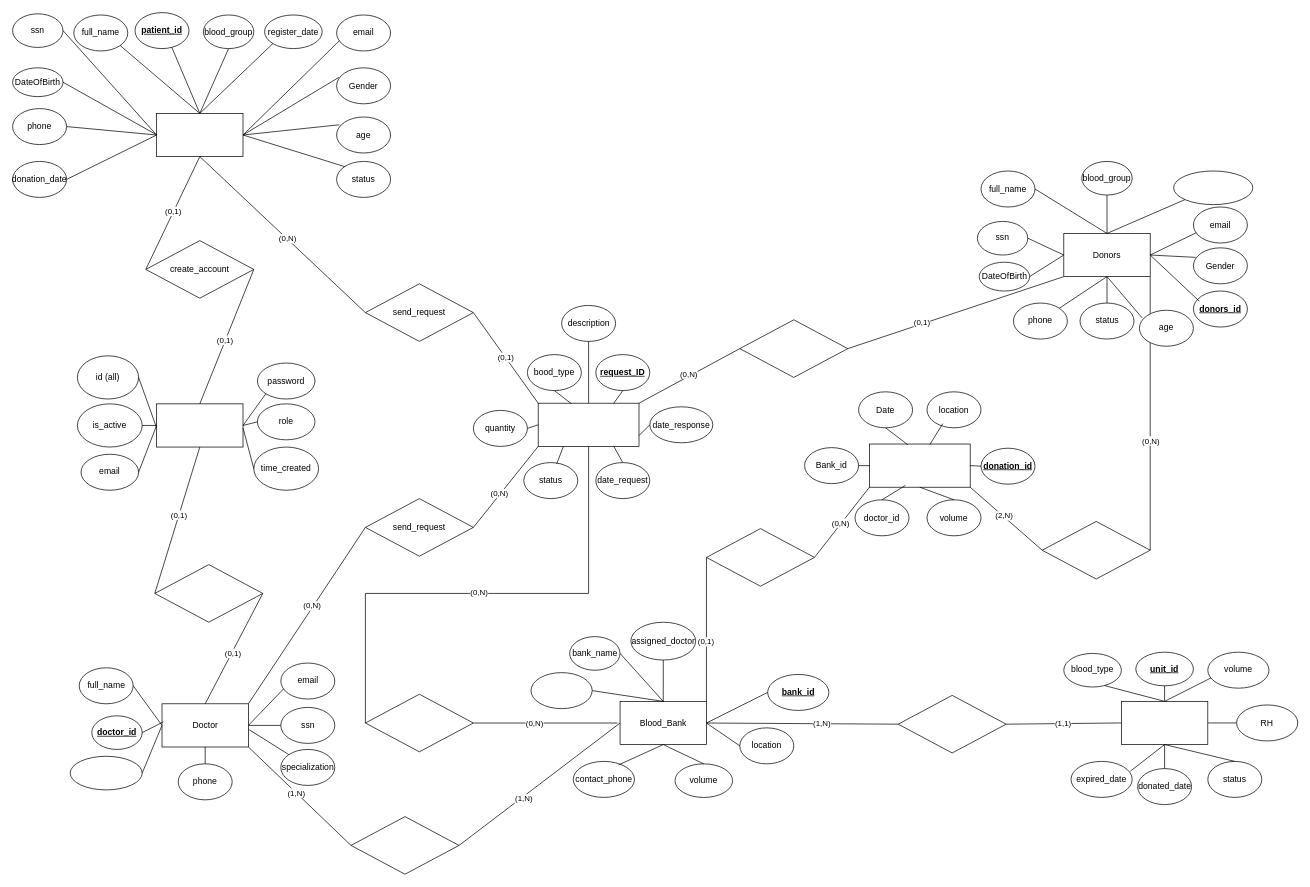
The diagram is 1310 pixels wide and 887 high, and some of its shapes have lost their labels. Each missing label, with the centre of its shape:
account: the point at 199,425
assigned_mission: the point at 105,773
Blood_Inventory: the point at 1164,723
contact_email: the point at 561,690
created_account: the point at 208,593
DonationEvent: the point at 919,465
enroll_in: the point at 1095,550
give_request: the point at 793,348
last_donation_date: the point at 1213,187
manage_reuqest: the point at 419,723
organize: the point at 760,557
Patients: the point at 199,135
Request: the point at 588,424
Store_at: the point at 951,724
work_at: the point at 404,845
